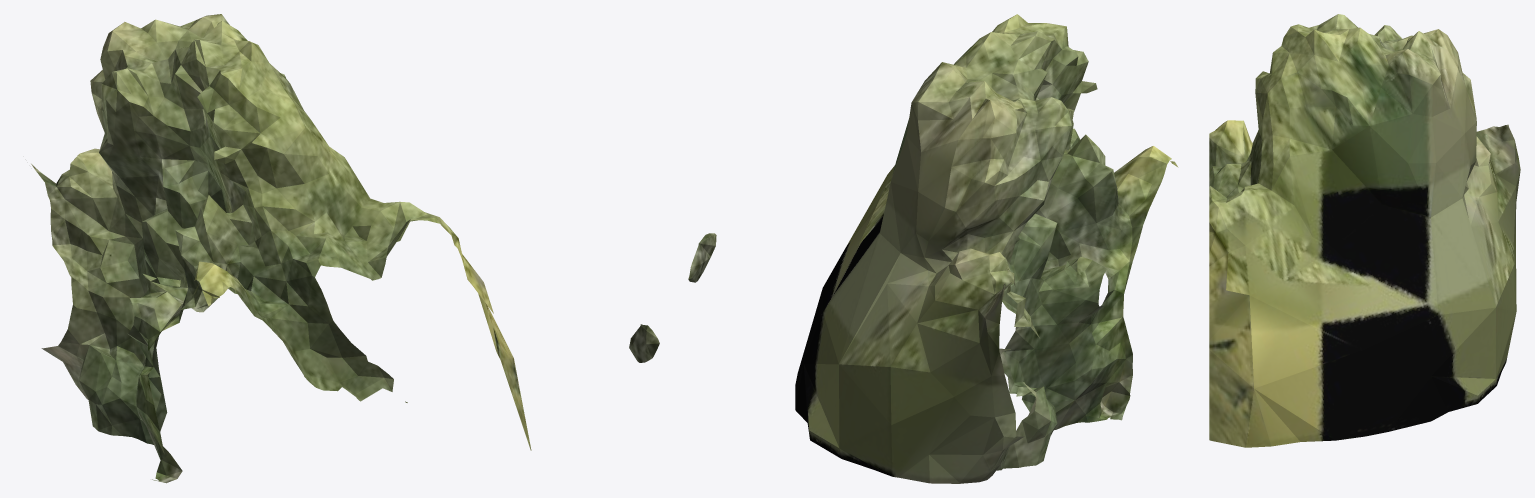
3 renders of one model, left to right at view 1: azimuth 30°, elevation 25°; view 2: azimuth 150°, elevation 25°; view 3: azimuth 270°, elevation 25°, orthographic. The views are drawn at different scales.
Bounding box in the file's own units: 11.8 × 9.82 × 8.41.
Materials: 3 (3 with a texture image).
